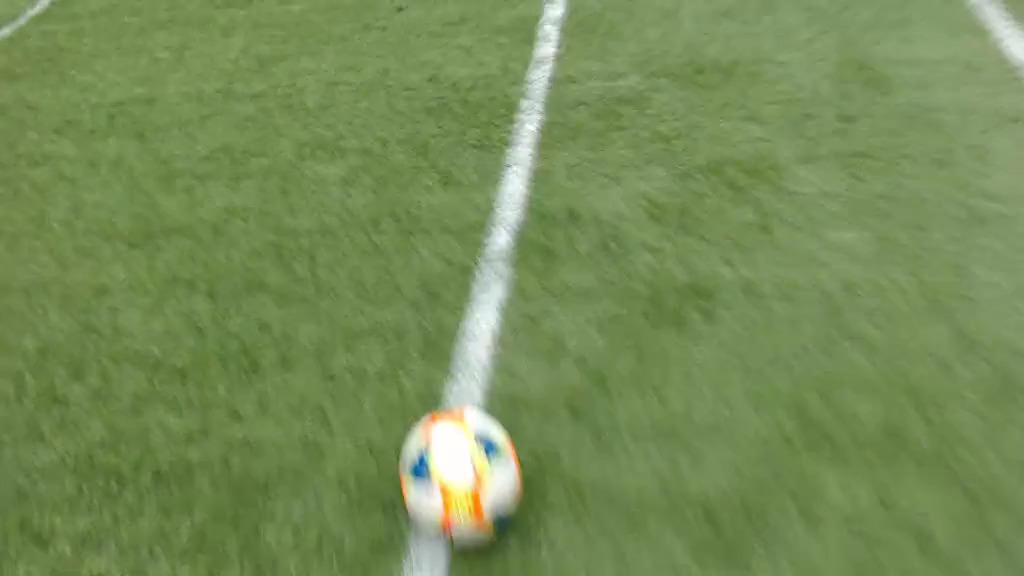ball: (399, 404, 523, 542)
